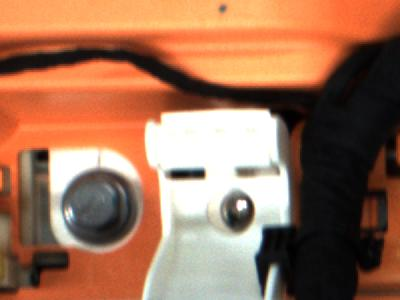nut_b: (56, 165, 139, 244)
